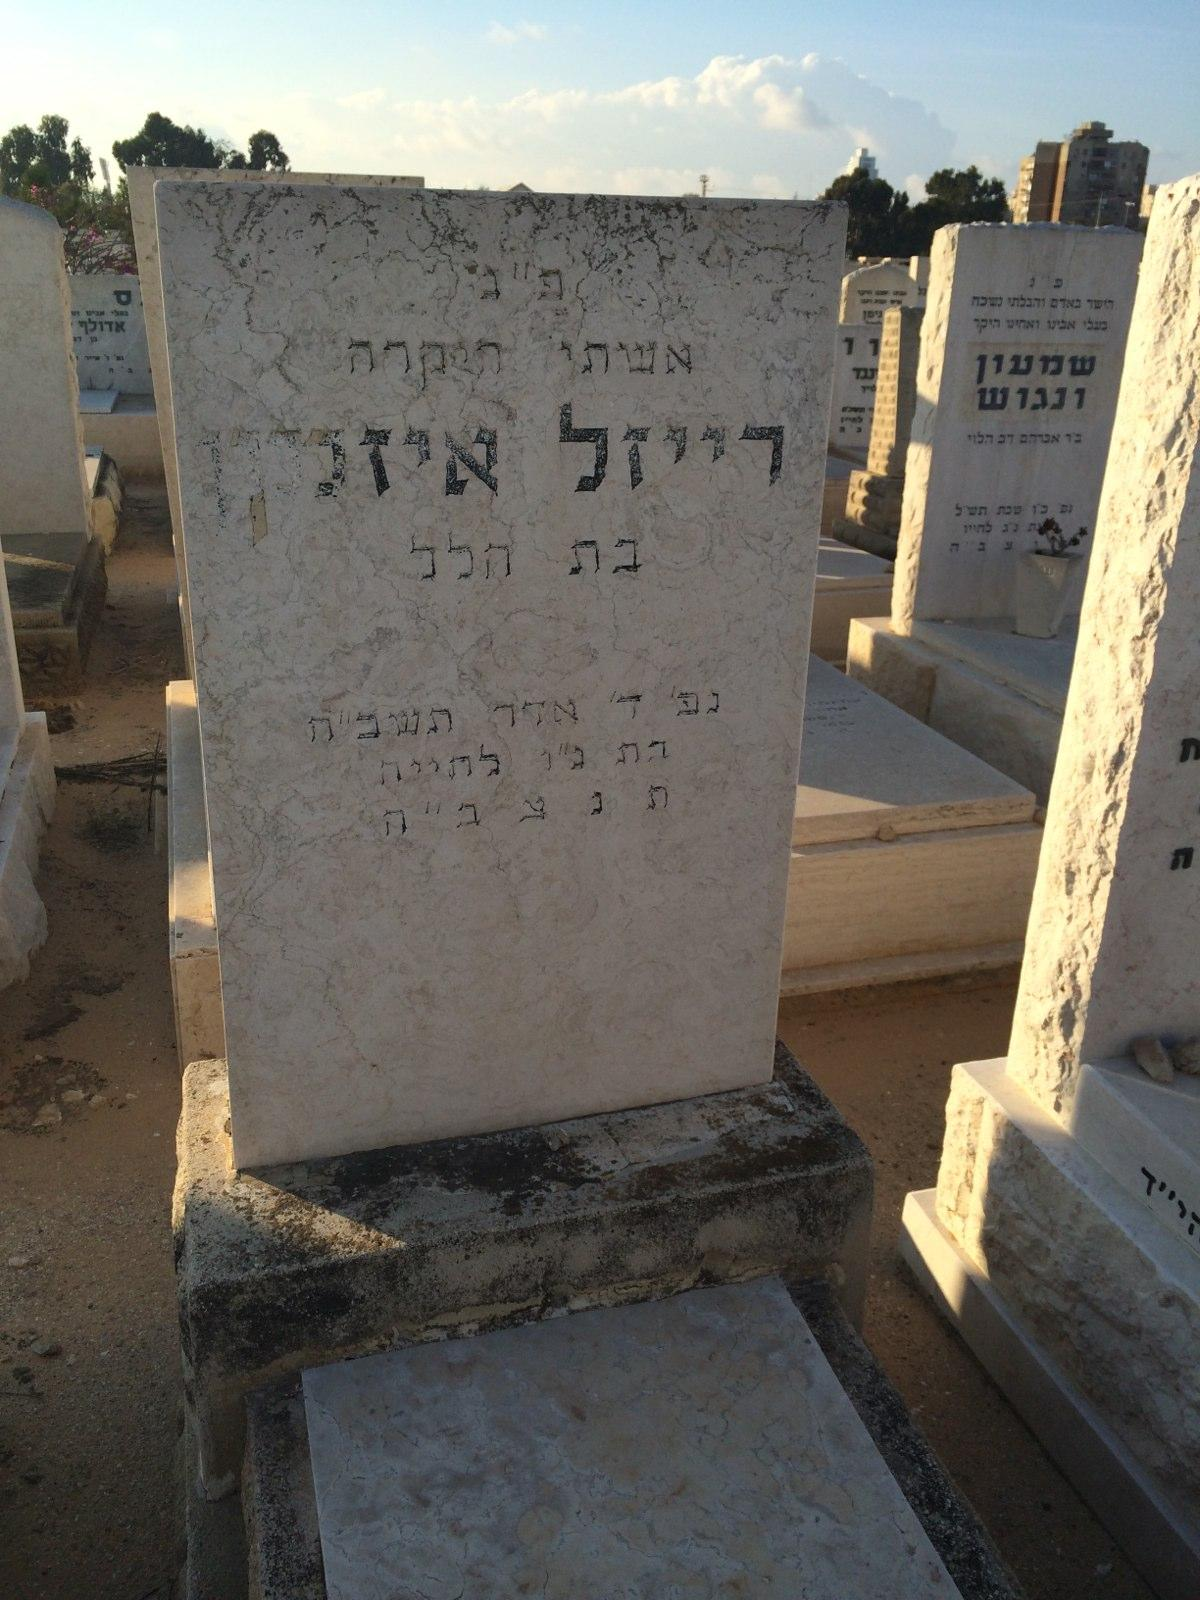upright: (124, 176, 868, 1274)
